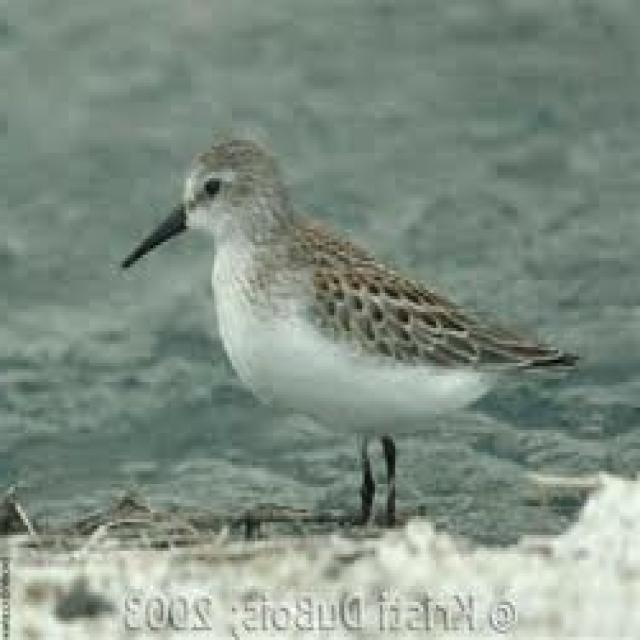sandpiper: (125, 131, 576, 519)
